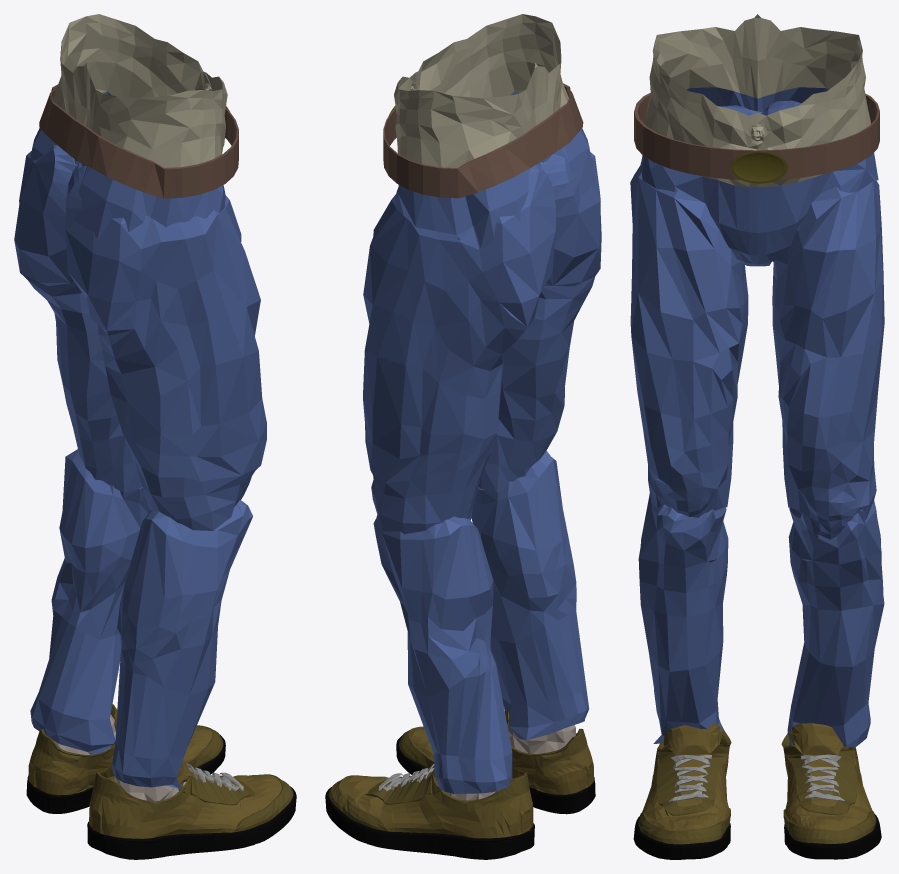
3 renders of one model, left to right at view 1: azimuth 30°, elevation 25°; view 2: azimuth 150°, elevation 25°; view 3: azimuth 270°, elevation 25°, orthographic.
Visible parts, largest first — view 1: LoLeg_R, Pelvis, UpLeg_R, UpLeg_L, LoLeg_L, Foot_R, Foot_L; view 2: LoLeg_L, Pelvis, UpLeg_L, UpLeg_R, LoLeg_R, Foot_L, Foot_R; view 3: Pelvis, LoLeg_L, LoLeg_R, UpLeg_L, UpLeg_R, Foot_R, Foot_L.
Part boxes in pixels (<box>): LoLeg_R: <box>65,163,266,530</box>; Pelvis: <box>28,14,238,238</box>; UpLeg_R: <box>112,500,252,789</box>; UpLeg_L: <box>30,449,149,754</box>; LoLeg_L: <box>14,145,142,492</box>; Foot_R: <box>87,761,296,859</box>; Foot_L: <box>26,704,225,813</box>; LoLeg_L: <box>363,163,555,534</box>; Pelvis: <box>383,14,596,248</box>; UpLeg_L: <box>373,513,512,793</box>; UpLeg_R: <box>471,450,589,740</box>; LoLeg_R: <box>478,152,601,492</box>; Foot_L: <box>325,764,534,859</box>; Foot_R: <box>396,711,595,814</box>; Pelvis: <box>634,14,879,266</box>; LoLeg_L: <box>761,100,884,539</box>; LoLeg_R: <box>630,105,762,517</box>; UpLeg_L: <box>787,500,884,746</box>; UpLeg_R: <box>638,493,728,743</box>; Foot_R: <box>633,719,731,859</box>; Foot_L: <box>781,723,881,859</box>.
Bounding box in the file's own units: 0.342 × 0.3624 × 1.22.
